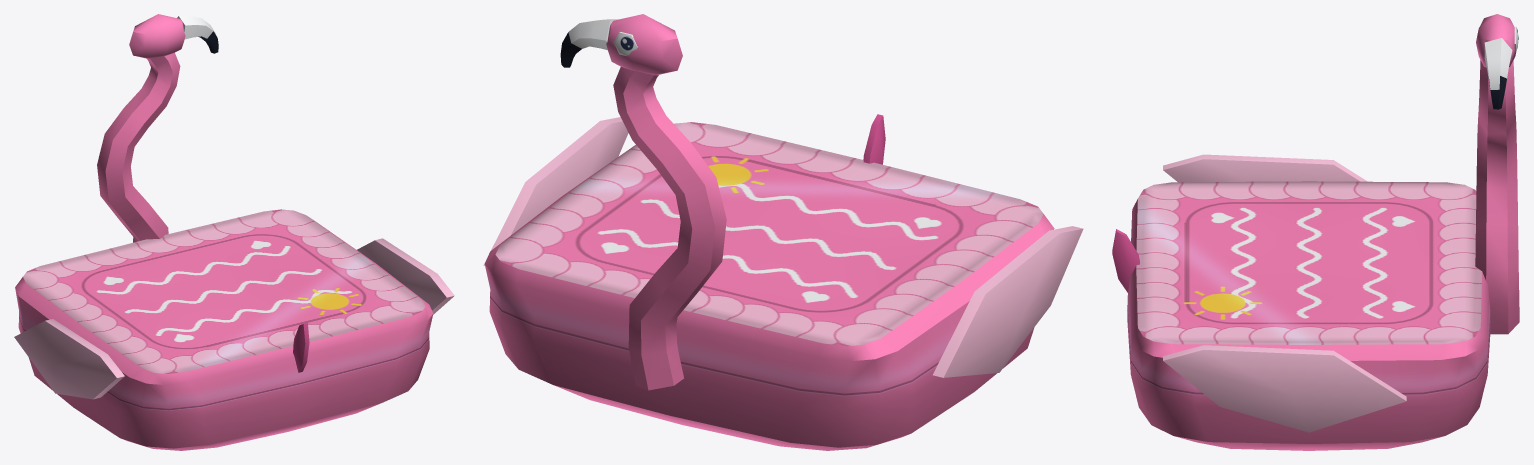
The model's file is pool_flamingo_float_lod1.glb.
3 views of the same model, side by side, from view 1: azimuth 30°, elevation 25°; view 2: azimuth 150°, elevation 25°; view 3: azimuth 270°, elevation 25° (orthographic). The views are drawn at different scales.
Parts seen in each view (by area): view 1: pool_flamingo_float_LOD1; view 2: pool_flamingo_float_LOD1; view 3: pool_flamingo_float_LOD1.
Boxes of the visible parts, x1=… form: pool_flamingo_float_LOD1: x1=14, y1=14, x2=454, y2=450; pool_flamingo_float_LOD1: x1=483, y1=14, x2=1083, y2=450; pool_flamingo_float_LOD1: x1=1112, y1=14, x2=1519, y2=450.
Size of the model in its own units: 12 by 9.96 by 10.03.
1 material, 1 textured.
